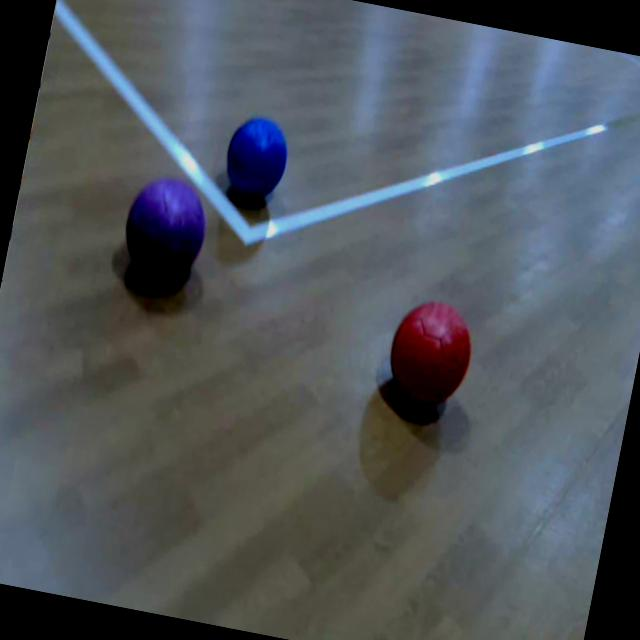blue_ball: (220, 110, 294, 202)
purple_ball: (116, 169, 216, 287)
red_ball: (384, 294, 480, 411)
